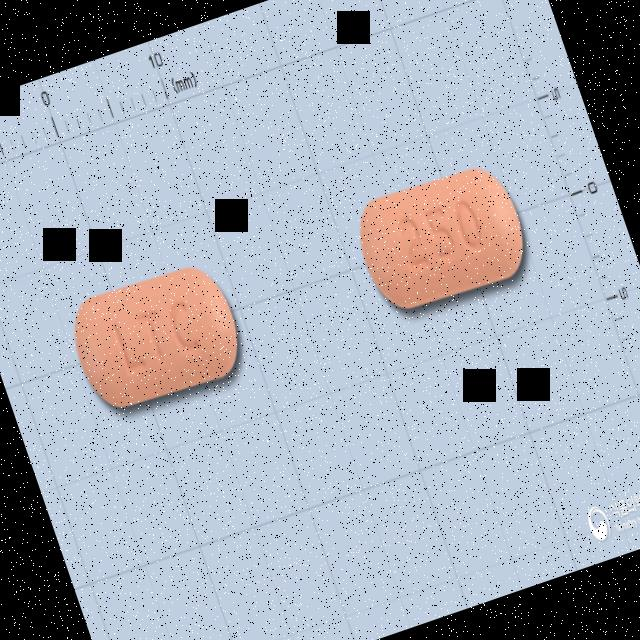Lectacin: (60, 254, 252, 420), (346, 154, 537, 320)
